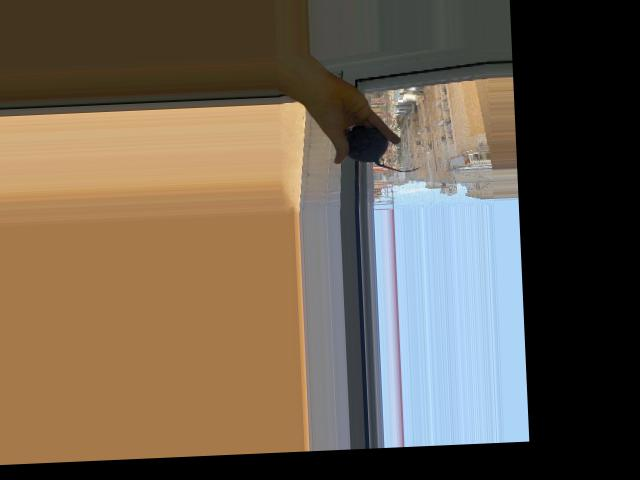beet: (347, 122, 421, 174)
